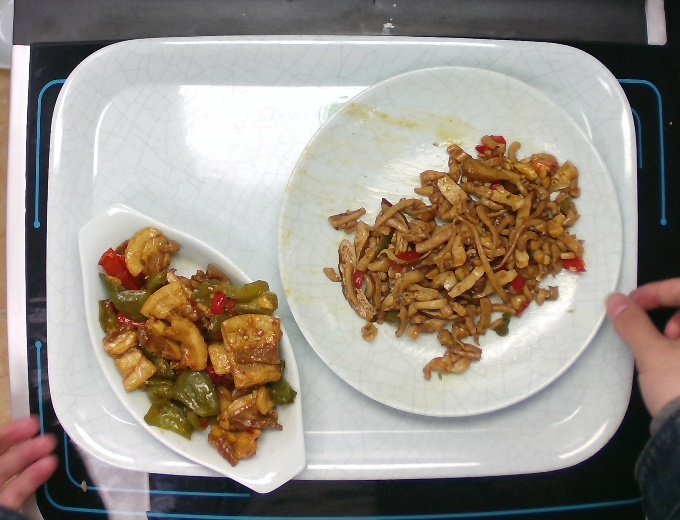JYsf-Da_Yuan_Pan: (275, 61, 625, 421)
JYsf-Yu_Pan: (73, 200, 310, 495)
